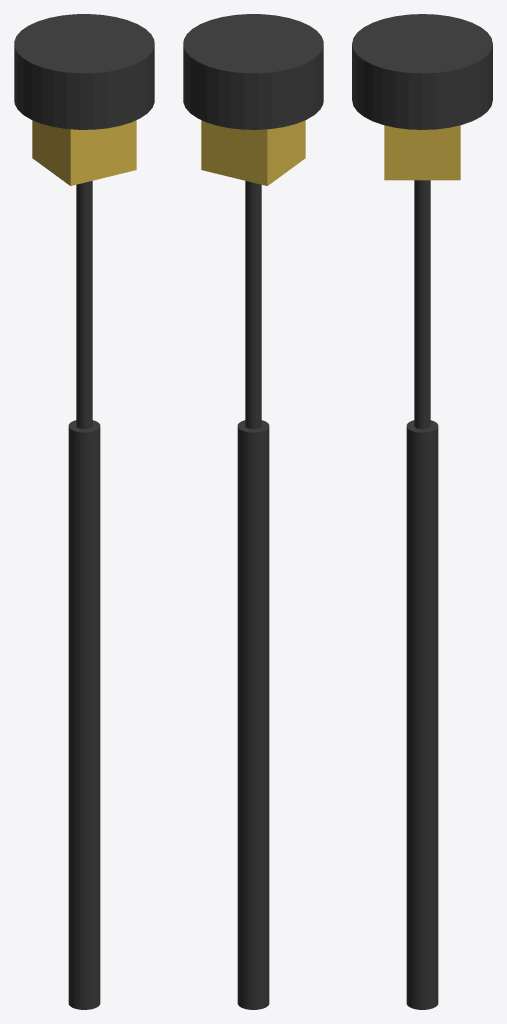
File: Lamp.fbx
3 renders of one model, left to right at view 1: azimuth 30°, elevation 25°; view 2: azimuth 150°, elevation 25°; view 3: azimuth 270°, elevation 25°, orthographic.
Parts seen in each view (by area): view 1: Lamp_Pole, Lamp_Pole.002, Lamp_Head, Lamp_Pole.001; view 2: Lamp_Pole, Lamp_Pole.002, Lamp_Head, Lamp_Pole.001; view 3: Lamp_Pole, Lamp_Pole.002, Lamp_Pole.001, Lamp_Head.
Part boxes in pixels (left/top/right/bottom): Lamp_Pole: left=68, top=420, right=100, bottom=1009; Lamp_Pole.002: left=14, top=14, right=154, bottom=129; Lamp_Head: left=32, top=120, right=136, bottom=185; Lamp_Pole.001: left=76, top=181, right=92, bottom=429; Lamp_Pole: left=237, top=420, right=269, bottom=1009; Lamp_Pole.002: left=183, top=14, right=323, bottom=129; Lamp_Head: left=201, top=120, right=305, bottom=185; Lamp_Pole.001: left=245, top=181, right=261, bottom=429; Lamp_Pole: left=406, top=420, right=438, bottom=1009; Lamp_Pole.002: left=352, top=14, right=492, bottom=129; Lamp_Pole.001: left=414, top=180, right=430, bottom=429; Lamp_Head: left=384, top=125, right=460, bottom=180.
Bounding box in the file's own units: 88.43 × 665 × 88.43.
